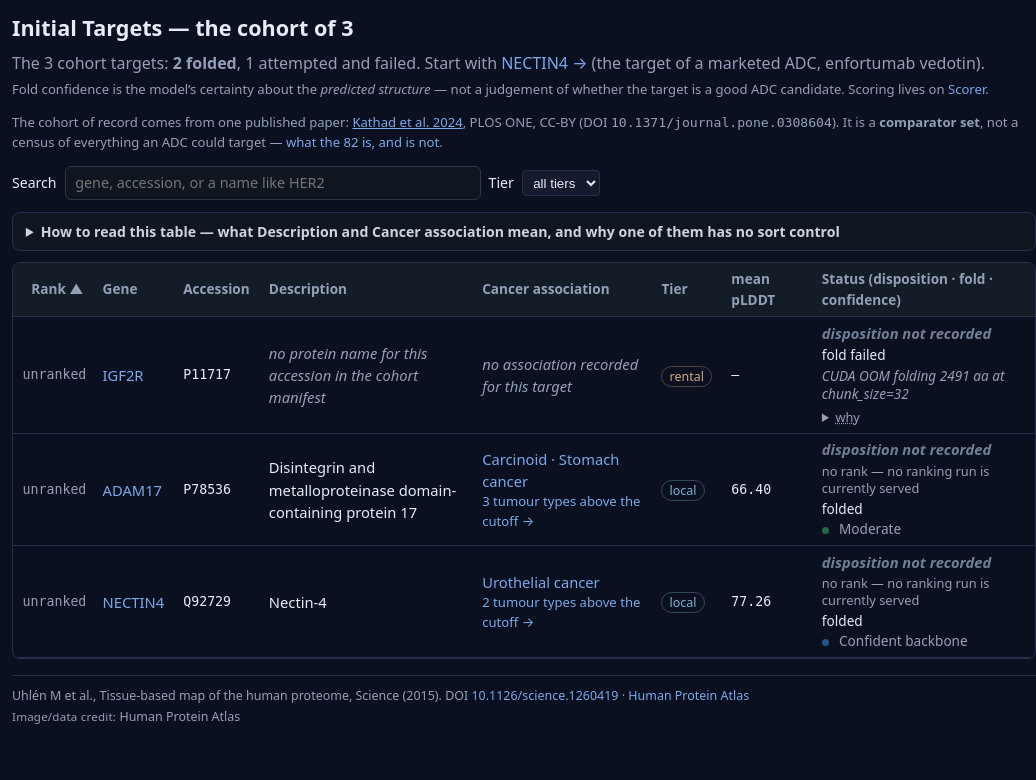
Scenario: ⚠⚠ the HPA citation is a PRECONDITION of display, not a footnote › suppresses the credit when no row on screen rendered a tumour type
Expected: the table is shown, [13,263,1035,658]
In the search field labelled "Search": (273, 183) [65,166,481,200], type "IGF2R"
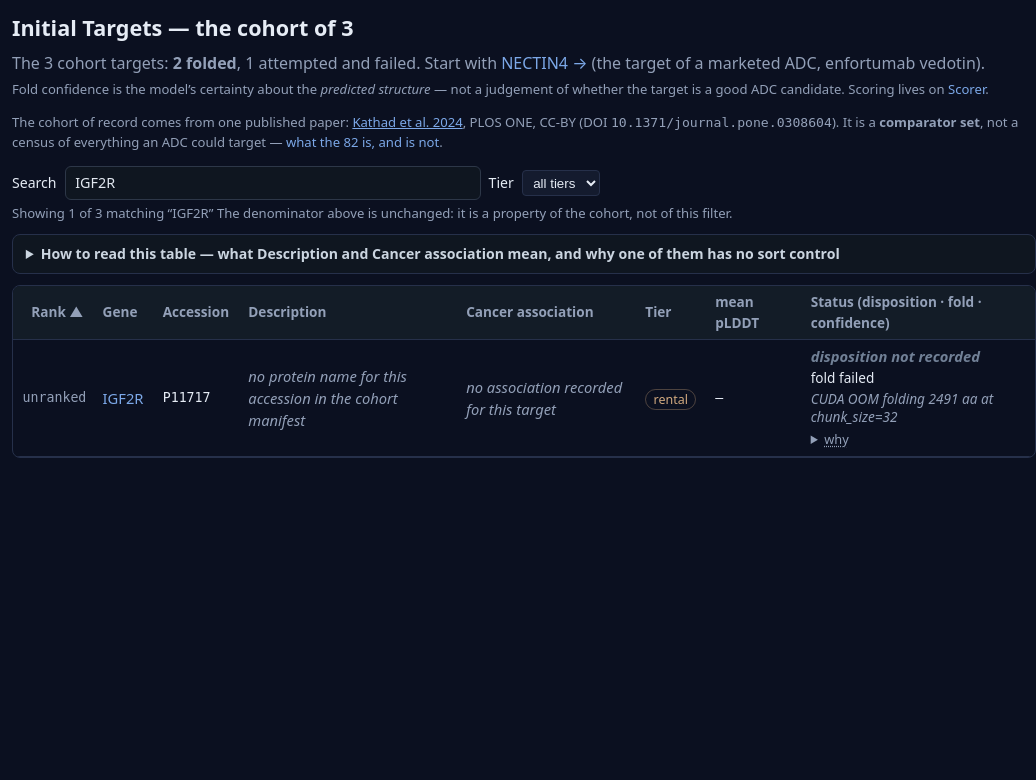
Expected: the text "IGF2R" is shown, [172,204,209,222]
Expected: no elements with class "hpa-attrib-credit" are shown
